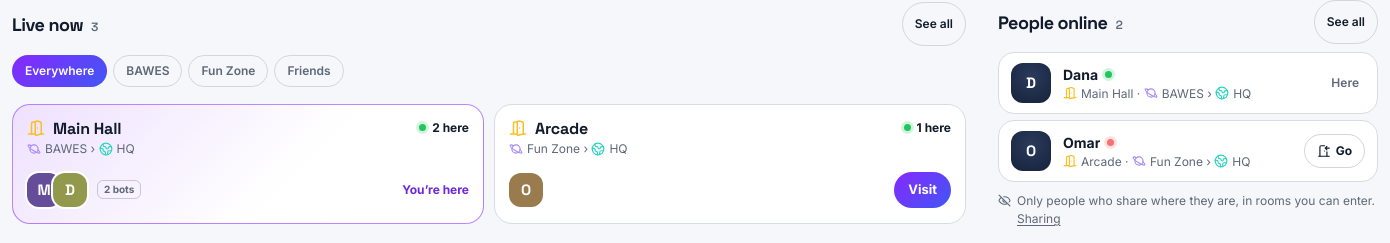
Test: Live now › Friends chip › says so when none of your friends are in a room you can enter
Click the button "Friends" at (309, 71), box [274, 55, 344, 87]
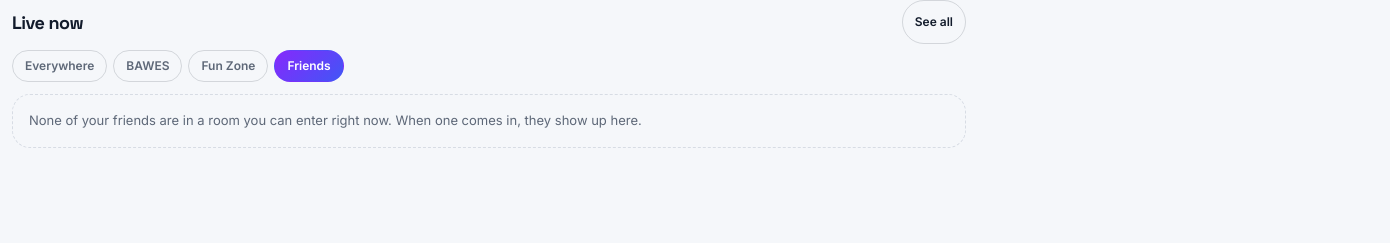
Expected: no elements with test id "live-place" are shown
Expected: the element with test id "people-online" is gone
Expected: the text "None of your friends are in a room you can enter" is shown, [29, 112, 642, 128]
Note: The chips stay, so you can go back.
Click the button "Everywhere" at (60, 66), box [12, 50, 107, 82]
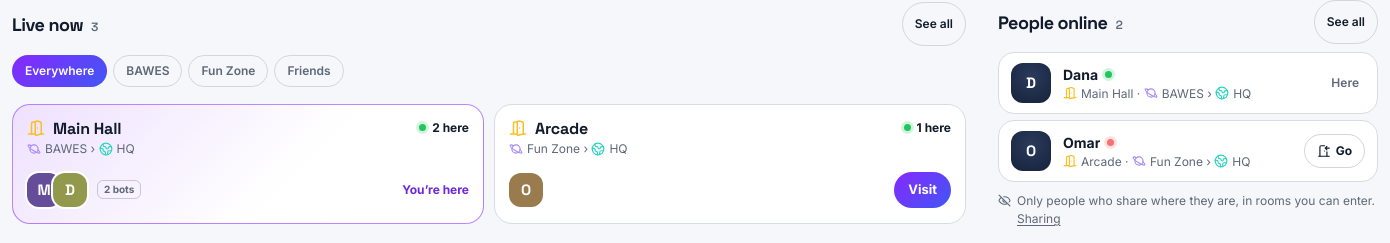
Expected: the number of elements with test id "live-place" is 2, [12, 104, 484, 224]; [494, 104, 966, 224]
